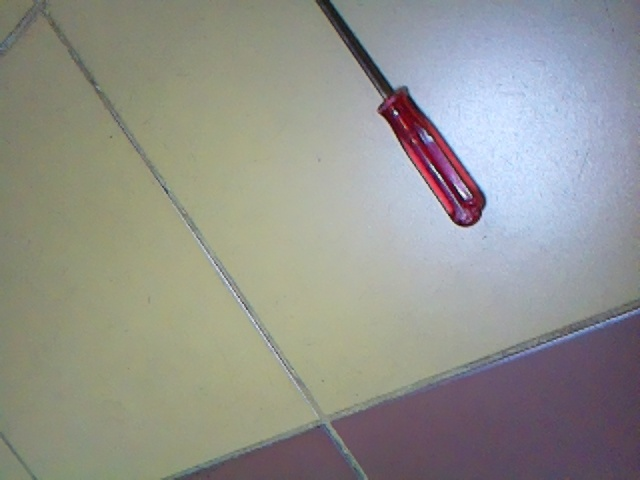redskrew: (275, 1, 488, 230)
